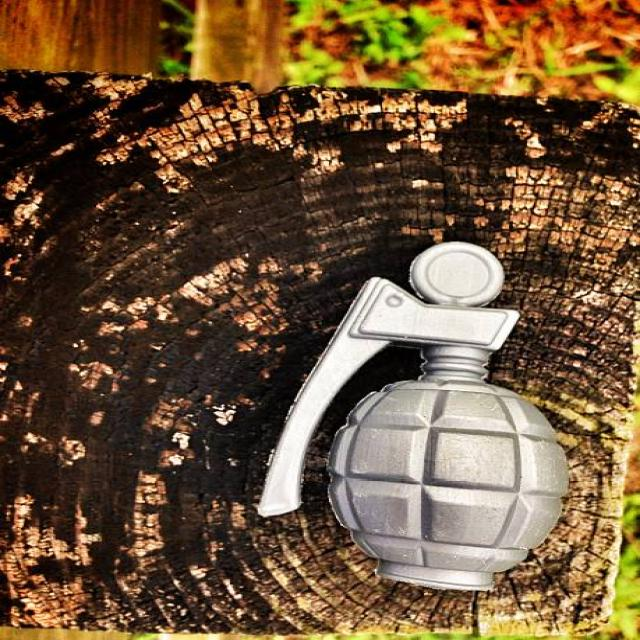grenade: (252, 240, 580, 602)
